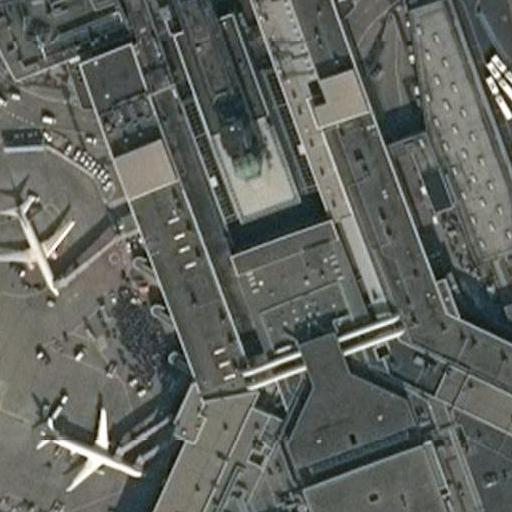Aircraft: (30, 399, 136, 484), (0, 191, 70, 288)
